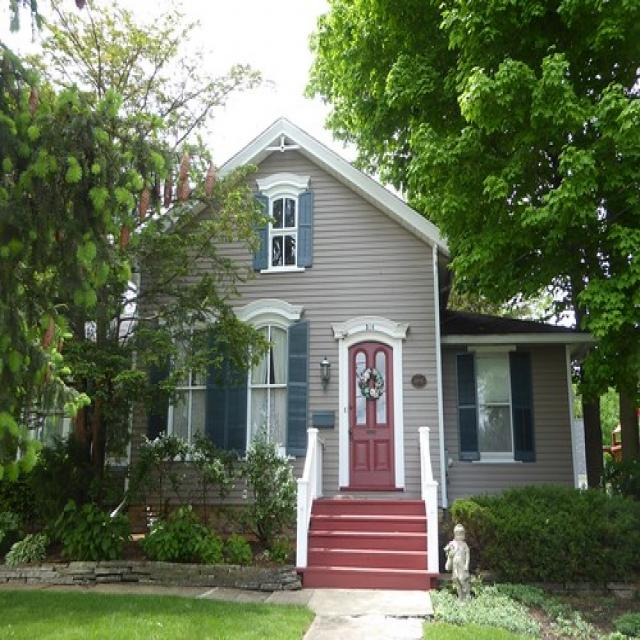Normal_building: (119, 110, 603, 595)
